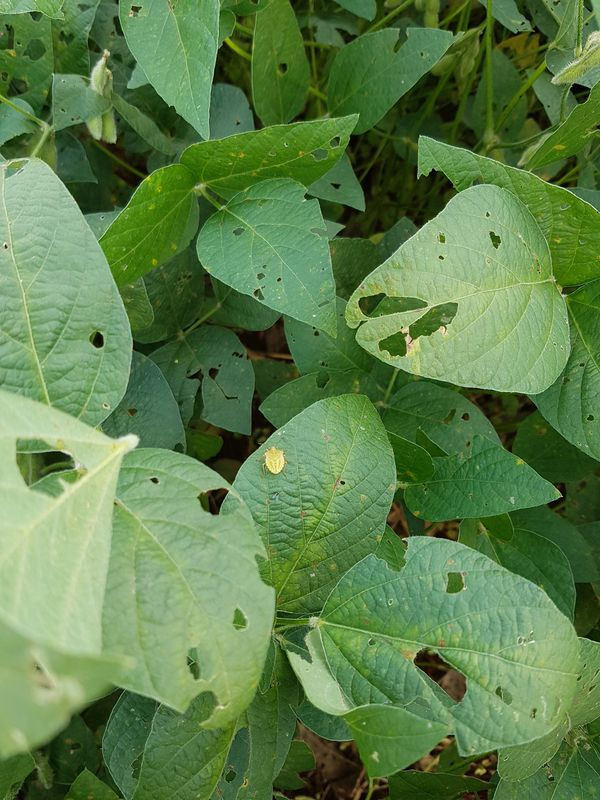Euschistus_heros_ninfa: (254, 437, 293, 482)
